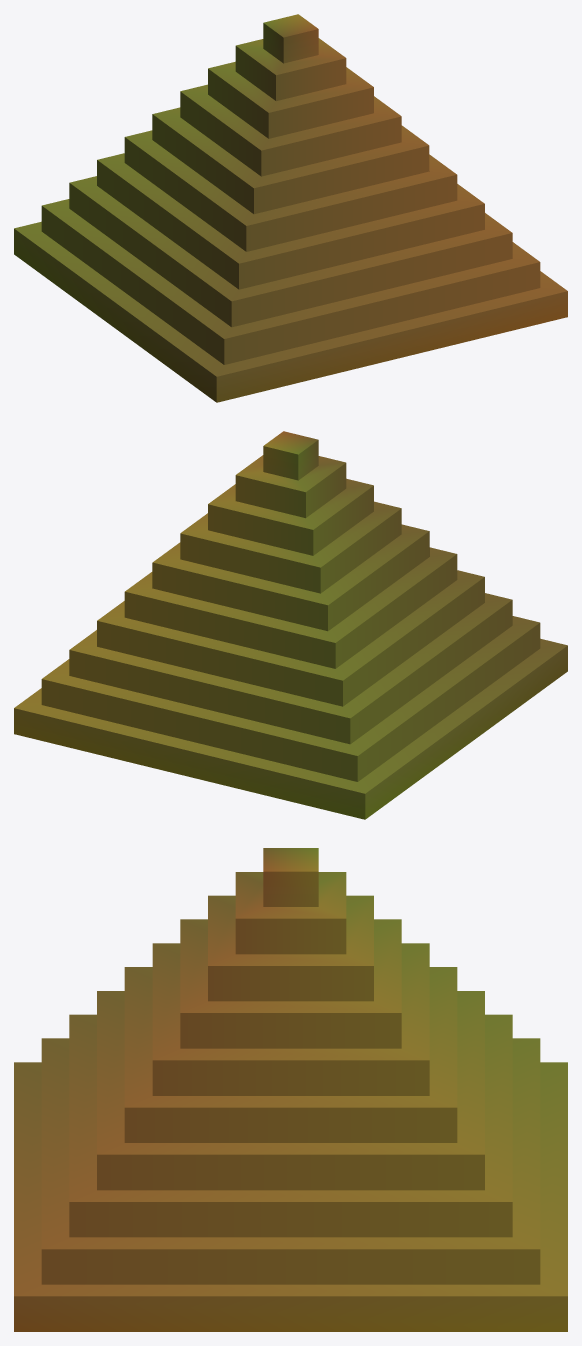
3 views of the same model, one above another, from view 1: azimuth 30°, elevation 25°; view 2: azimuth 150°, elevation 25°; view 3: azimuth 270°, elevation 25° (orthographic). The views are drawn at different scales.
Parts seen in each view (by area): view 1: Pyramid; view 2: Pyramid; view 3: Pyramid.
Part boxes in pixels (left/top/right/bottom): Pyramid: left=14, top=14, right=567, bottom=402; Pyramid: left=14, top=431, right=567, bottom=819; Pyramid: left=14, top=848, right=567, bottom=1331.
Size of the model in its own units: 141 by 100 by 141.
